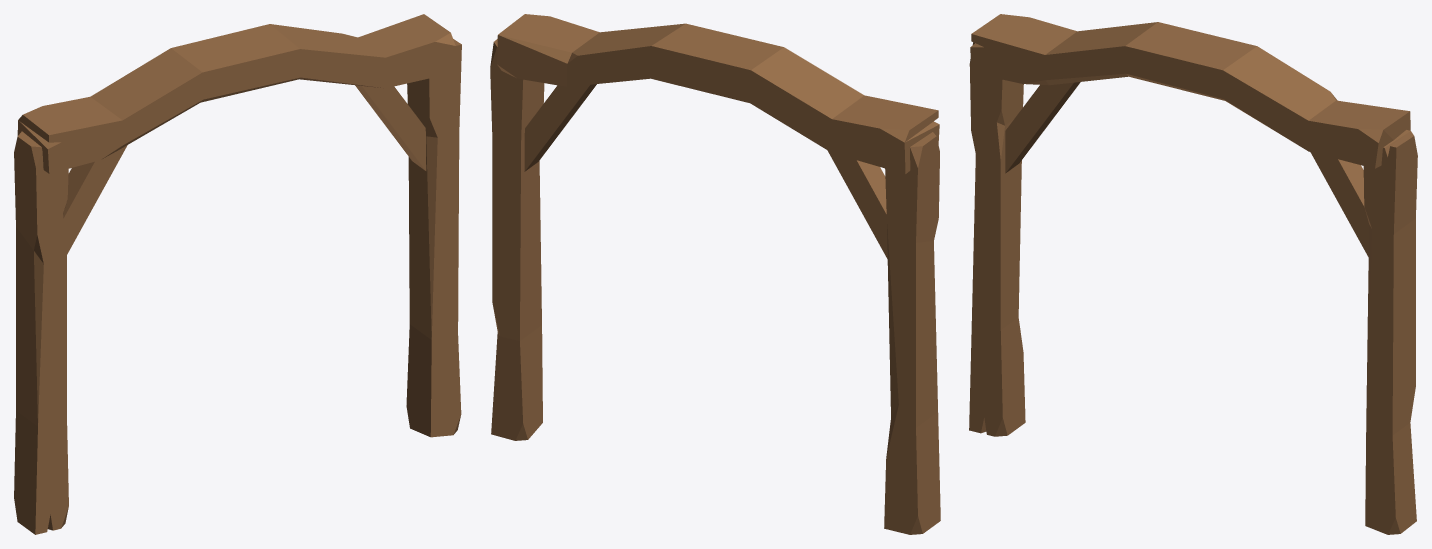
Rendered from Mine tunnel_00.FBX.
The picture shows the model from 3 angles, left to right: view 1: azimuth 30°, elevation 25°; view 2: azimuth 150°, elevation 25°; view 3: azimuth 330°, elevation 25°; orthographic projection.
Visible parts, largest first — view 1: Mine tunnel_00; view 2: Mine tunnel_00; view 3: Mine tunnel_00.
Part boxes in pixels (x1,y1,x2,y2): Mine tunnel_00: (14,14,461,534); Mine tunnel_00: (490,14,940,534); Mine tunnel_00: (969,14,1417,534).
Bounding box in the file's own units: 26.25 × 25.29 × 3.45.
